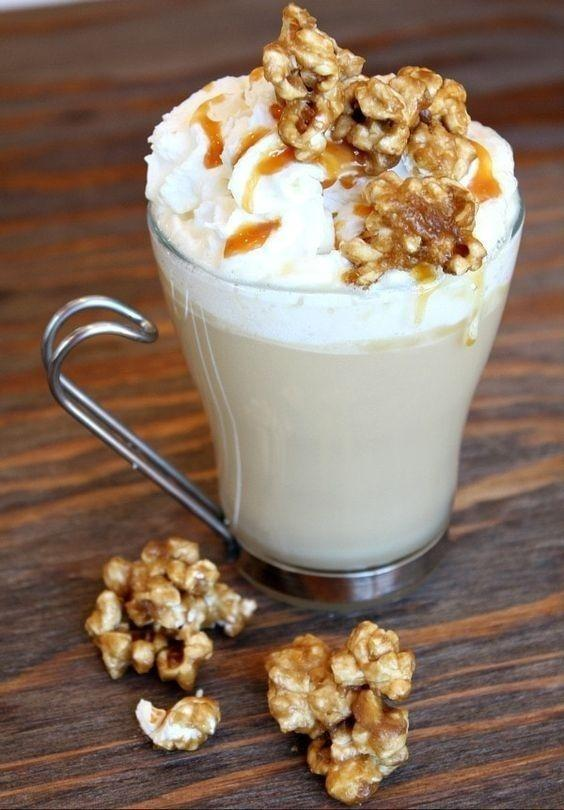glass-mug: (33, 19, 531, 594)
